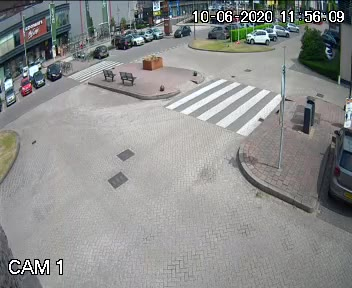car: (170, 23, 193, 40)
